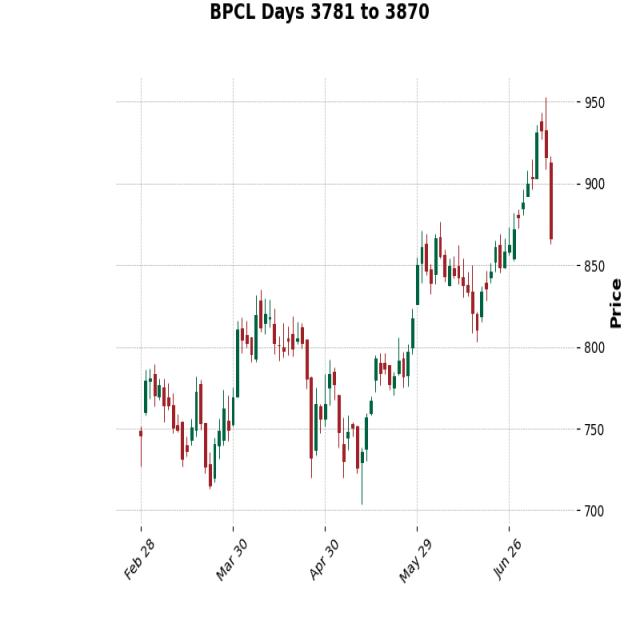Triple Bottom Reversal: (282, 368, 409, 506)
